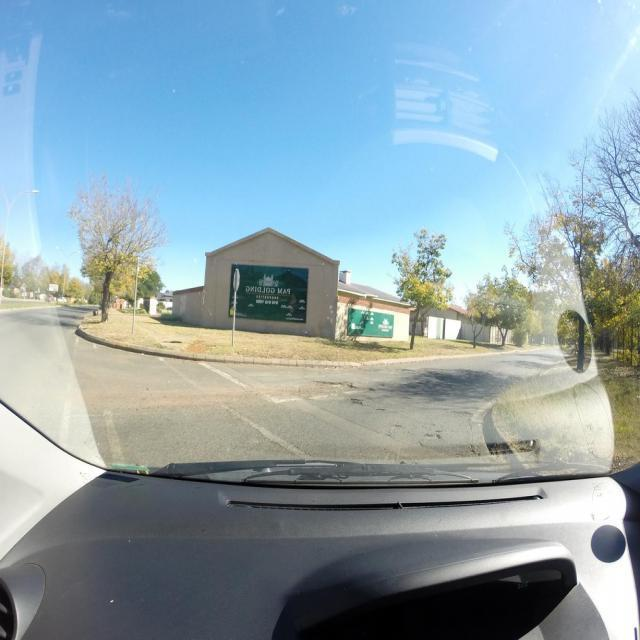pothole: (264, 381, 352, 398), (423, 430, 443, 439), (467, 446, 481, 457), (348, 398, 365, 407), (353, 387, 377, 391), (377, 408, 386, 411), (380, 384, 385, 387)
